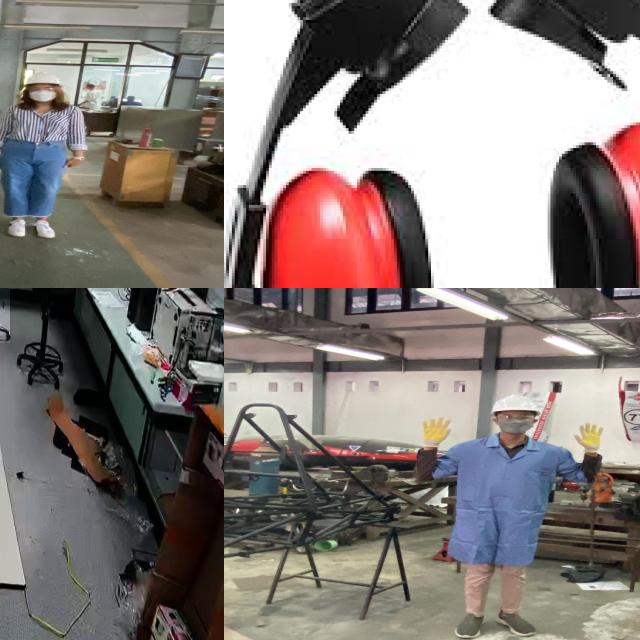Ear-protection: (224, 0, 640, 288)
face_mask: (491, 410, 537, 434), (30, 85, 59, 102)
glasses: (490, 411, 540, 422), (24, 84, 56, 91)
hand_glove: (417, 414, 454, 448), (569, 422, 610, 451)
hand_noglove: (60, 157, 82, 169)
head_helmet: (486, 394, 544, 416), (23, 71, 64, 86)
person: (402, 392, 620, 640)
shoes: (493, 608, 542, 638), (451, 608, 488, 640), (30, 218, 58, 240), (6, 218, 30, 237)
